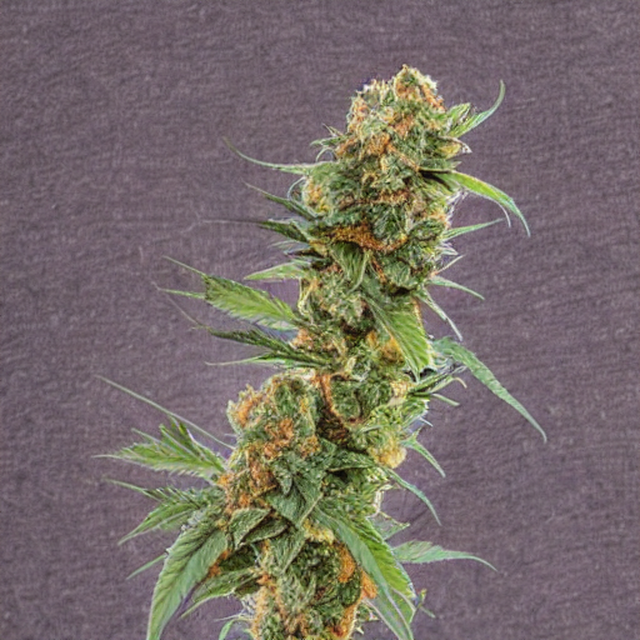Marijuana Joint: (97, 57, 540, 638)
